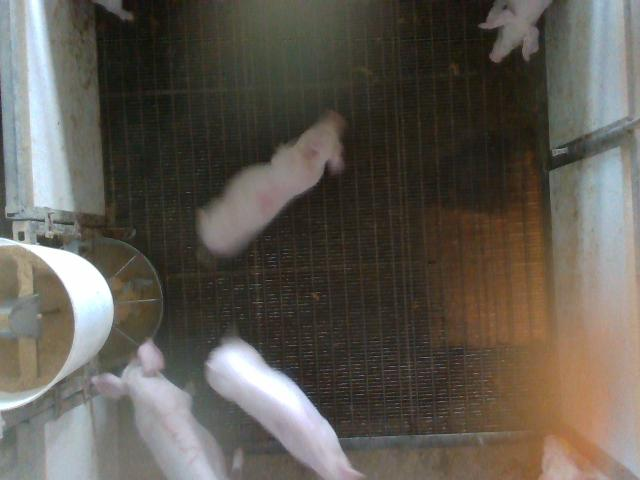pig-3: (92, 340, 244, 479)
